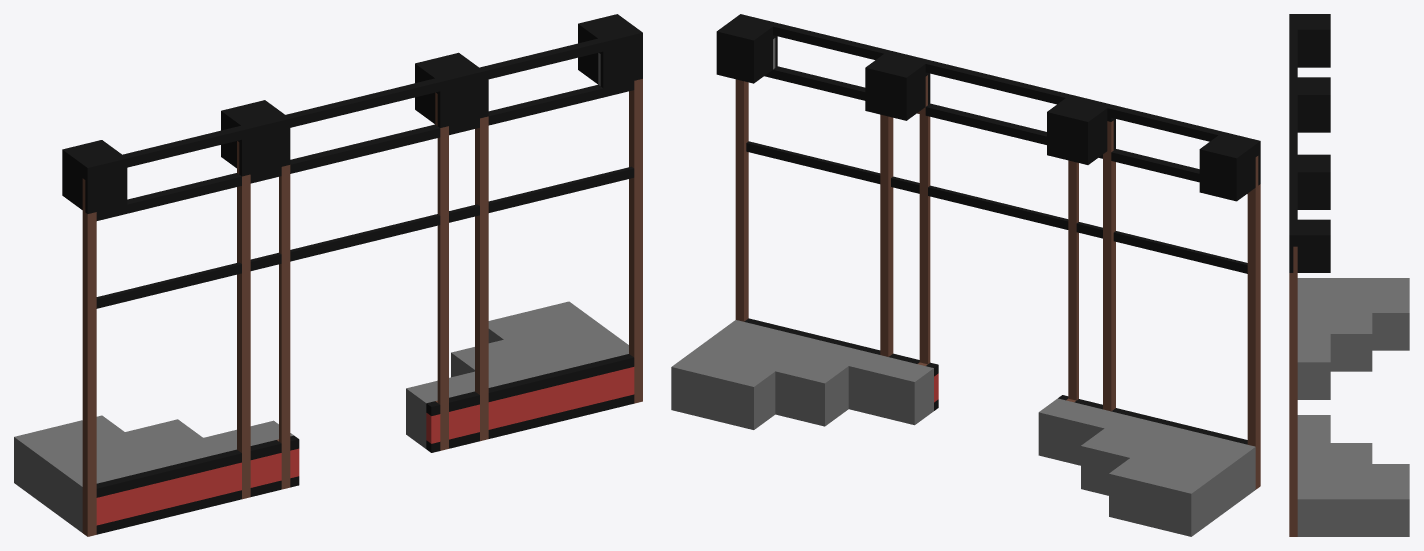
Rendered from store 2.obj.
3 renders of one model, left to right at view 1: azimuth 30°, elevation 25°; view 2: azimuth 150°, elevation 25°; view 3: azimuth 270°, elevation 25°, orthographic. The views are drawn at different scales.
Size of the model in its own units: 12.6 by 8 by 2.9.
Materials: 1 (1 with a texture image).
